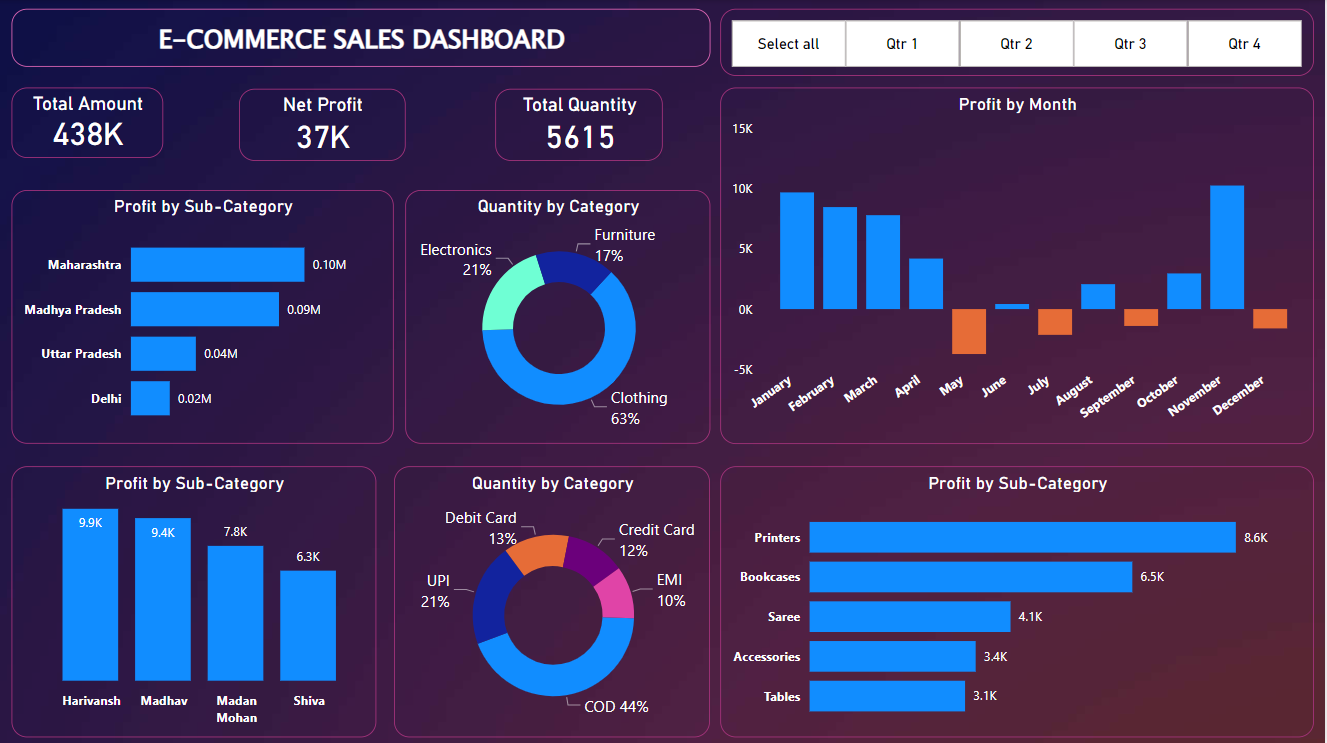

What the dashboard file says about the page in this screenshot:
{"tool":"powerbi","page":{"name":"dashbord_salesData","canvas":[1280,720],"ordinal":0},"visuals":[{"type":"textbox","box":[12,8,674.2,56],"z":0},{"type":"columnChart","title":"Profit by Month","fields":{"Category":["Orders.Order Date.Variation.Date Hierarchy.Month"],"Y":["Details.Profit"]},"box":[695.9,84.4,572.9,343.7],"z":1000},{"type":"barChart","title":"Profit by Sub-Category","fields":{"Category":["Details.Sub-Category"],"Y":["Details.Profit"]},"box":[695.9,449.8,572.9,261.7],"z":2000},{"type":"donutChart","title":"Quantity by Category","fields":{"Category":["Details.Category"],"Y":["Details.Quantity"]},"box":[392,183.3,294.3,244.8],"z":3000},{"type":"donutChart","title":"Quantity by Payment Mode","fields":{"Y":["Details.Quantity"],"Category":["Details.PaymentMode"]},"box":[381.1,449.8,305.1,261.7],"z":4000},{"type":"card","title":"Total Amount","fields":{"Values":["Details.Amount"]},"box":[12,84.4,146,68],"z":5000},{"type":"card","title":"Net Profit","fields":{"Values":["Details.Profit"]},"box":[231.6,85.6,160.4,69.9],"z":6000},{"type":"card","title":"Total Quantity","fields":{"Values":["Details.Quantity"]},"box":[478.8,85.6,161.6,69.9],"z":7000},{"type":"barChart","title":"Amount by State","fields":{"Category":["Orders.State"],"Y":["Details.Amount"]},"box":[12.1,183.3,369,244.8],"z":9000},{"type":"columnChart","title":"Amount by CustomerName","fields":{"Category":["Orders.CustomerName"],"Y":["Details.Amount"]},"box":[12.1,449.8,352.2,261.7],"z":10000},{"type":"advancedSlicerVisual","fields":{"Values":["Orders.Order Date.Variation.Date Hierarchy.Quarter"]},"box":[695.9,8.4,572.9,65.1],"z":11000}]}

Visuals, with their boxes in screenshot pixels (x1, y1, x2, y2), scaled from the page's 1280x720 canvas onto the 1327x743 screenshot:
textbox: bbox=(12, 8, 711, 66)
"Profit by Month" columnChart: bbox=(721, 87, 1315, 442)
"Profit by Sub-Category" barChart: bbox=(721, 464, 1315, 734)
"Quantity by Category" donutChart: bbox=(406, 189, 712, 442)
"Quantity by Payment Mode" donutChart: bbox=(395, 464, 711, 734)
"Total Amount" card: bbox=(12, 87, 164, 157)
"Net Profit" card: bbox=(240, 88, 406, 160)
"Total Quantity" card: bbox=(496, 88, 664, 160)
"Amount by State" barChart: bbox=(13, 189, 395, 442)
"Amount by CustomerName" columnChart: bbox=(13, 464, 378, 734)
advancedSlicerVisual - Orders.Order Date.Variation.Date Hierarchy.Quarter: bbox=(721, 9, 1315, 76)
